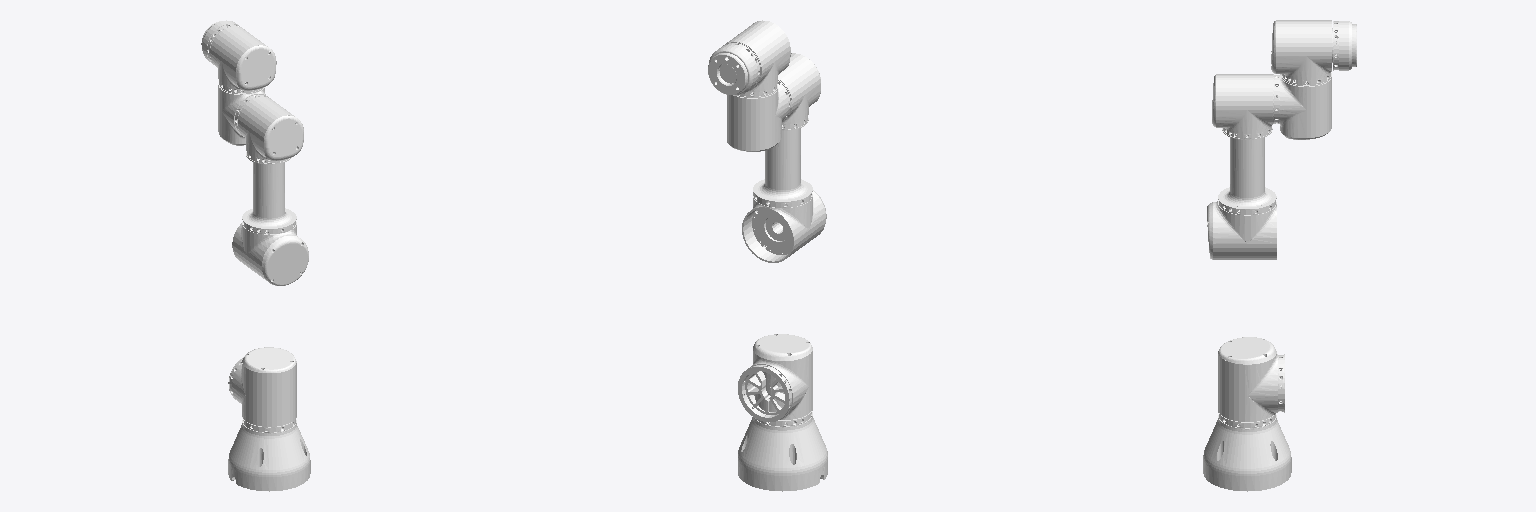
The robot description file, URDF, robot "eRobot3":
<?xml version="1.0" encoding="utf-8" ?>
<!-- This URDF was automatically created by SolidWorks to URDF Exporter! -->
<robot name="eRobot3">
    <!-- ========== base_link ========== -->
    <link name="base_link">
        <!-- inertial 块：动力学惯性属性（惯性张量、质量中心、质量），只影响动力学仿真（如Gazebo/动力学规划 -->
        <inertial>
            <!-- origin xyz="0.000238... -1.1011e-05 0.03848..."
           描述的是：惯性张量参考点（即质心）在base_link坐标系下的位置 
      -->
            <origin xyz="0.000238381020737997 -1.10110753726621E-05 0.0384896134001484" rpy="0 0 0" />
            <!-- mass value="1.295..." 该link整体质量（kg） -->
            <mass value="1.29519582649501" />
            <!-- inertia 代表6个分量的惯性张量 -->
            <inertia ixx="0.00244418442959775" ixy="6.14041142098162E-09" ixz="1.06800432992162E-05" iyy="0.00242433612229914" iyz="7.63874386099279E-07" izz="0.00319876940700231" />
        </inertial>
        <!-- visual 块：该link的显示模型（rviz三维显示/仿真） -->
        <visual>
            <!-- origin xyz="0 0 0" rpy="0 0 0"表示相对于link坐标系的偏移和旋转 -->
            <origin xyz="0 0 0" rpy="0 0 0" />
            <!-- geometry描述该link的三维几何模型，mesh描述绝对路径或相对路径 -->
            <geometry>
                <mesh filename="package://robot_description/meshes/base_link.STL" />
            </geometry>
            <!-- material描述显示颜色/材质，rgba：r,g,b,a（红绿蓝透明度），范围0~1 -->
            <material name="">
                <color rgba="1 1 1 1" />
            </material>
        </visual>
        <!-- collision 块：物理仿真和碰撞检测用的模型
         和visual类似，但可以用低精度mesh提升效率
         一般origin、geometry和visual一致 
    -->
        <collision>
            <origin xyz="0 0 0" rpy="0 0 0" />
            <geometry>
                <mesh filename="package://robot_description/meshes/base_link.STL" />
            </geometry>
        </collision>
    </link>
    <!-- ========== Link1 ========== -->
    <link name="Link1">
        <inertial>
            <origin xyz="-7.192E-07 0.0035106 -0.006048" rpy="0 0 0" />
            <mass value="0.47956" />
            <inertia ixx="0.00049766" ixy="-3.8798E-08" ixz="4.4484E-08" iyy="0.00047561" iyz="-6.9471E-06" izz="0.00051651" />
        </inertial>
        <visual>
            <origin xyz="0 0 0.1435" rpy="0 0 -1.5708" />
            <geometry>
                <mesh filename="package://robot_description/meshes/Link1.STL" />
            </geometry>
            <material name="">
                <color rgba="1 1 1 1" />
            </material>
        </visual>
        <collision>
            <origin xyz="0 0 0.1435" rpy="0 0 -1.5708" />
            <geometry>
                <mesh filename="package://robot_description/meshes/Link1.STL" />
            </geometry>
        </collision>
    </link>
    <!-- ========== Joint1 ========== -->
    <joint name="Joint1" type="revolute">
        <origin xyz="0 0 0" rpy="0 0 1.5708" />
        <parent link="base_link" />
        <child link="Link1" />
        <axis xyz="0 0 1" />
        <limit lower="-3.14" upper="3.14" effort="10" velocity="1.0" />
    </joint>
    <!-- ========== Link2 ========== -->
    <link name="Link2">
        <inertial>
            <origin xyz="3.5458E-06 0.12176 -0.0040088" rpy="0 0 0" />
            <mass value="1.4296" />
            <inertia ixx="0.0023241" ixy="-7.8352E-08" ixz="-3.023E-07" iyy="0.0013858" iyz="-1.2508E-09" izz="0.0023626" />
        </inertial>
        <visual>
            <origin xyz="0 0 0.098" rpy="0 0 0" />
            <geometry>
                <mesh filename="package://robot_description/meshes/Link2.STL" />
            </geometry>
            <material name="">
                <color rgba="0.69804 0.69804 0.69804 1" />
            </material>
        </visual>
        <collision>
            <origin xyz="0 0 0.098" rpy="0 0 0" />
            <geometry>
                <mesh filename="package://robot_description/meshes/Link2.STL" />
            </geometry>
        </collision>
    </link>
    <!-- ========== Joint2 ========== -->
    <joint name="Joint2" type="revolute">
        <!-- 
    origin xyz="0 0 0.1435" rpy="0 0 0"
    物理意义：
      - xyz: 该关节（Joint1）在父link（base_link）坐标系下的位置。
        这里 "0 0 0.1435" 表示 Joint1 的坐标系原点相对于 base_link 原点，
        沿 Z 轴正方向（一般为竖直方向）上移 143.5mm（即DH参数 d1）。
      - rpy: 该关节坐标系相对于父link的旋转。
        "0 0 0" 表示不旋转，默认和父link坐标轴对齐。
    -->
        <origin xyz="0 0 0.1435" rpy="1.5708 0 1.5708" />
        <parent link="Link1" />
        <child link="Link2" />
        <axis xyz="0 0 1" />
        <limit lower="-3.14" upper="3.14" effort="10" velocity="1.0" />
    </joint>
    <!-- ========== Link3 ========== -->
    <link name="Link3">
        <inertial>
            <origin xyz="-2.332E-06 0.10103 -0.0018104" rpy="0 0 0" />
            <mass value="0.94745" />
            <inertia ixx="0.0011591" ixy="-3.2542E-07" ixz="-1.0358E-07" iyy="0.00071409" iyz="-1.5596E-05" izz="0.001267" />
        </inertial>
        <visual>
            <origin xyz="0 0 0" rpy="0 3.1416 -1.5708" />
            <geometry>
                <mesh filename="package://robot_description/meshes/Link3.STL" />
            </geometry>
            <material name="">
                <color rgba="1 1 1 1" />
            </material>
        </visual>
        <collision>
            <origin xyz="0 0 0" rpy="0 3.1416 0" />
            <geometry>
                <mesh filename="package://robot_description/meshes/Link3.STL" />
            </geometry>
        </collision>
    </link>
    <!-- ========== Joint3 ========== -->
    <joint name="Joint3" type="revolute">
        <origin xyz="0 0.2435 0" rpy="0 3.1416 -1.5708" />
        <parent link="Link2" />
        <child link="Link3" />
        <axis xyz="0 0 1" />
        <limit lower="-3.14" upper="3.14" effort="10" velocity="1.0" />
    </joint>
    <!-- ========== Link4 ========== -->
    <link name="Link4">
        <inertial>
            <origin xyz="-6.1088E-06 0.0033194 -0.003776" rpy="0 0 0" />
            <mass value="0.3205" />
            <inertia ixx="0.00023718" ixy="-5.2522E-08" ixz="-2.7411E-08" iyy="0.00026392" iyz="-2.2574E-06" izz="0.00022194" />
        </inertial>
        <visual>
            <origin xyz="0 0 -0.0860" rpy="0 3.1416 0" />
            <geometry>
                <mesh filename="package://robot_description/meshes/Link4.STL" />
            </geometry>
            <material name="">
                <color rgba="1 1 1 1" />
            </material>
        </visual>
        <collision>
            <origin xyz="0 0 -0.0860" rpy="0 3.1416 0" />
            <geometry>
                <mesh filename="package://robot_description/meshes/Link4.STL" />
            </geometry>
        </collision>
    </link>
    <!-- ========== Joint4 ========== -->
    <joint name="Joint4" type="revolute">
        <origin xyz="0.211 0 0" rpy="0 0 -1.5708" />
        <parent link="Link3" />
        <child link="Link4" />
        <axis xyz="0 0 -1" />
        <limit lower="-3.14" upper="3.14" effort="10" velocity="1.0" />
    </joint>
    <!-- ========== Link5 ========== -->
    <link name="Link5">
        <inertial>
            <origin xyz="-6.1088E-06 0.0033194 -0.003776" rpy="0 0 0" />
            <mass value="0.3205" />
            <inertia ixx="0.00023718" ixy="-5.2527E-08" ixz="-2.7409E-08" iyy="0.00026392" iyz="-2.2574E-06" izz="0.00022194" />
        </inertial>
        <visual>
            <origin xyz="0 0 0.086" rpy="0 0 0" />
            <geometry>
                <mesh filename="package://robot_description/meshes/Link5.STL" />
            </geometry>
            <material name="">
                <color rgba="1 1 1 1" />
            </material>
        </visual>
        <collision>
            <origin xyz="0 0 0.086" rpy="0 0 0" />
            <geometry>
                <mesh filename="package://robot_description/meshes/Link5.STL" />
            </geometry>
        </collision>
    </link>
    <!-- ========== Joint5 ========== -->
    <joint name="Joint5" type="revolute">
        <origin xyz="0 0 -0.086" rpy="-1.5708 0 0" />
        <parent link="Link4" />
        <child link="Link5" />
        <axis xyz="0 0 1" />
        <limit lower="-3.14" upper="3.14" effort="10" velocity="1.0" />
    </joint>
    <!-- ========== Link6 ========== -->
    <link name="Link6">
        <inertial>
            <origin xyz="-2.1129E-08 -0.00019741 0.015145" rpy="0 0 0" />
            <mass value="0.23648" />
            <inertia ixx="0.00010946" ixy="-4.5552E-11" ixz="5.3449E-11" iyy="0.00011202" iyz="-4.6764E-08" izz="0.00018471" />
        </inertial>
        <visual>
            <origin xyz="0 0 0.0725" rpy="0 3.1416 0" />
            <geometry>
                <mesh filename="package://robot_description/meshes/Link6.STL" />
            </geometry>
            <material name="">
                <color rgba="1 1 1 1" />
            </material>
        </visual>
        <collision>
            <origin xyz="0 0 0.0725" rpy="0 3.1416 0" />
            <geometry>
                <mesh filename="package://robot_description/meshes/Link6.STL" />
            </geometry>
        </collision>
    </link>
    <!-- ========== Joint6 ========== -->
    <joint name="Joint6" type="revolute">
        <origin xyz="0 0 0.086" rpy="-1.5708 0 0" />
        <parent link="Link5" />
        <child link="Link6" />
        <axis xyz="0 0 1" />
        <limit lower="-3.14" upper="3.14" effort="10" velocity="1.0" />
    </joint>
    <transmission name="trans_Joint1">
        <type>transmission_interface/SimpleTransmission</type>
        <joint name="Joint1">
            <hardwareInterface>hardware_interface/EffortJointInterface</hardwareInterface>
        </joint>
        <actuator name="Joint1_motor">
            <hardwareInterface>hardware_interface/EffortJointInterface</hardwareInterface>
            <mechanicalReduction>1</mechanicalReduction>
        </actuator>
    </transmission>
    <transmission name="trans_Joint2">
        <type>transmission_interface/SimpleTransmission</type>
        <joint name="Joint2">
            <hardwareInterface>hardware_interface/EffortJointInterface</hardwareInterface>
        </joint>
        <actuator name="Joint2_motor">
            <hardwareInterface>hardware_interface/EffortJointInterface</hardwareInterface>
            <mechanicalReduction>1</mechanicalReduction>
        </actuator>
    </transmission>
    <transmission name="trans_Joint3">
        <type>transmission_interface/SimpleTransmission</type>
        <joint name="Joint3">
            <hardwareInterface>hardware_interface/EffortJointInterface</hardwareInterface>
        </joint>
        <actuator name="Joint3_motor">
            <hardwareInterface>hardware_interface/EffortJointInterface</hardwareInterface>
            <mechanicalReduction>1</mechanicalReduction>
        </actuator>
    </transmission>
    <transmission name="trans_Joint4">
        <type>transmission_interface/SimpleTransmission</type>
        <joint name="Joint4">
            <hardwareInterface>hardware_interface/EffortJointInterface</hardwareInterface>
        </joint>
        <actuator name="Joint4_motor">
            <hardwareInterface>hardware_interface/EffortJointInterface</hardwareInterface>
            <mechanicalReduction>1</mechanicalReduction>
        </actuator>
    </transmission>
    <transmission name="trans_Joint5">
        <type>transmission_interface/SimpleTransmission</type>
        <joint name="Joint5">
            <hardwareInterface>hardware_interface/EffortJointInterface</hardwareInterface>
        </joint>
        <actuator name="Joint5_motor">
            <hardwareInterface>hardware_interface/EffortJointInterface</hardwareInterface>
            <mechanicalReduction>1</mechanicalReduction>
        </actuator>
    </transmission>
    <transmission name="trans_Joint6">
        <type>transmission_interface/SimpleTransmission</type>
        <joint name="Joint6">
            <hardwareInterface>hardware_interface/EffortJointInterface</hardwareInterface>
        </joint>
        <actuator name="Joint6_motor">
            <hardwareInterface>hardware_interface/EffortJointInterface</hardwareInterface>
            <mechanicalReduction>1</mechanicalReduction>
        </actuator>
    </transmission>
    <gazebo>
        <plugin name="gazebo_ros_control" filename="libgazebo_ros_control.so">
            <robotNamespace>/</robotNamespace>
        </plugin>
    </gazebo>
</robot>

--- Render facts (derived) ---
Views: 3 orthographic renders of the robot side by side, from view 1: azimuth 30°, elevation 25°; view 2: azimuth 150°, elevation 25°; view 3: azimuth 270°, elevation 25°.
Robot: eRobot3 — 7 links, 6 joints (6 revolute); root link base_link; default pose: all joints at 0.
Visible links, largest first — view 1: Link3, base_link, Link1, Link5, Link4; view 2: Link3, base_link, Link1, Link4, Link5, Link6; view 3: Link3, base_link, Link1, Link5, Link4, Link6.
Link boxes in pixels (x1,y1,x2,y2): Link3: [232, 96, 308, 285]; base_link: [228, 417, 310, 491]; Link1: [228, 347, 296, 429]; Link5: [210, 26, 276, 94]; Link4: [218, 85, 270, 145]; Link3: [742, 53, 826, 262]; base_link: [738, 410, 827, 491]; Link1: [738, 334, 812, 422]; Link4: [727, 79, 791, 151]; Link5: [726, 20, 790, 97]; Link6: [708, 42, 760, 95]; Link3: [1207, 74, 1277, 259]; base_link: [1203, 412, 1291, 491]; Link1: [1218, 337, 1284, 424]; Link5: [1271, 20, 1336, 86]; Link4: [1273, 74, 1331, 139]; Link6: [1333, 21, 1356, 70].
Bounding box of the posed robot: 0.128 × 0.2225 × 0.7205 m (x, y, z).
6 mesh visuals loaded from 7 distinct referenced files (6 binary STL); not drawn: 1 (reference not matched to a file when rendering).
